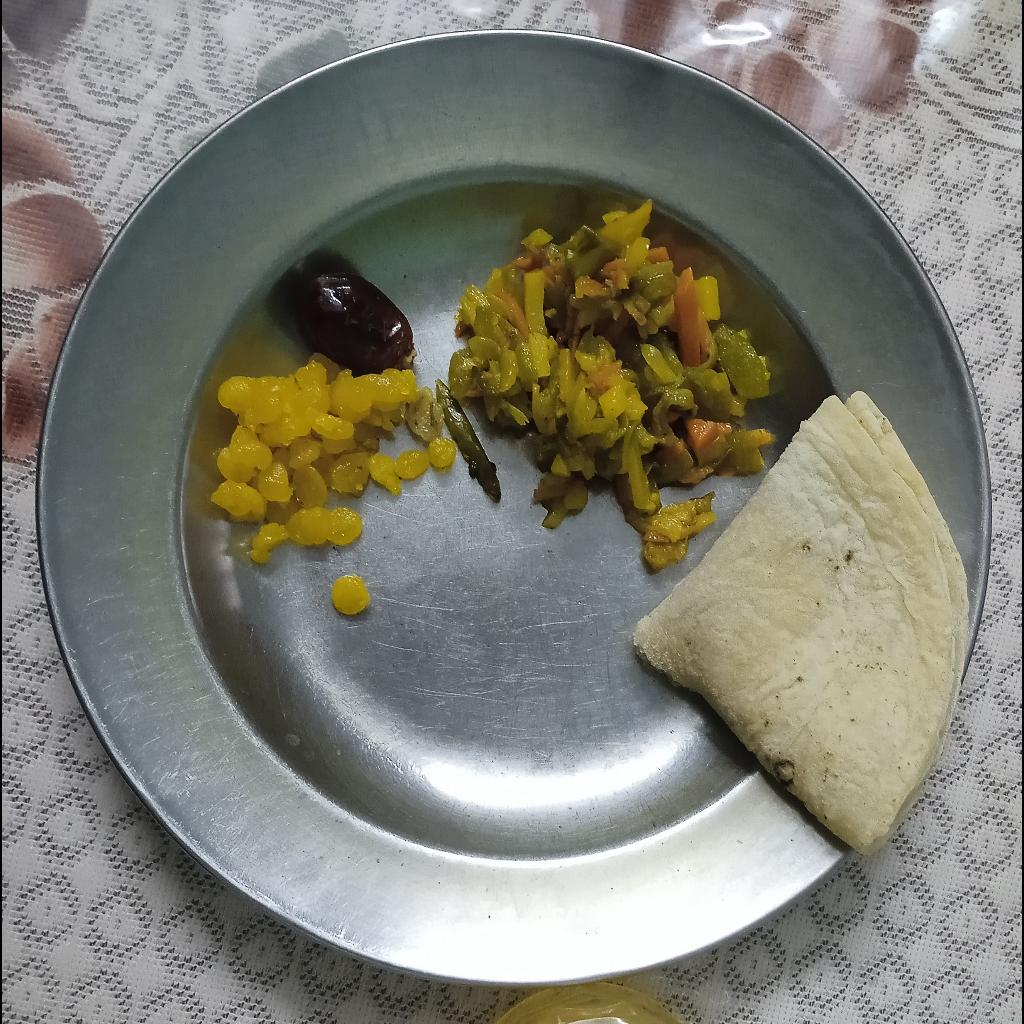burinda: (211, 352, 457, 564), (329, 574, 369, 616)
dates: (295, 272, 418, 371)
ruti: (638, 387, 972, 855)
vegetable: (450, 199, 777, 572)
